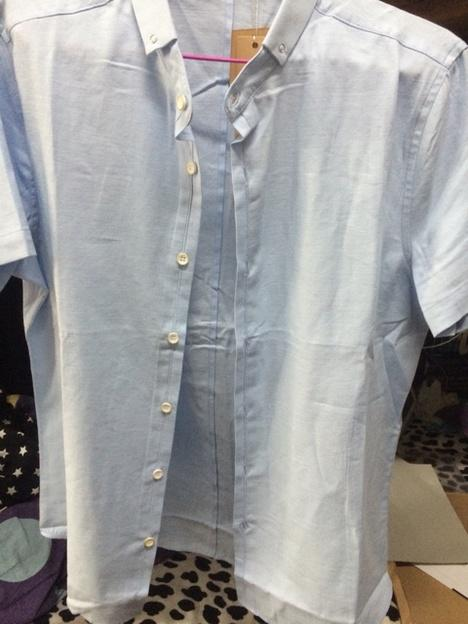C_shirt: (2, 2, 466, 624)
